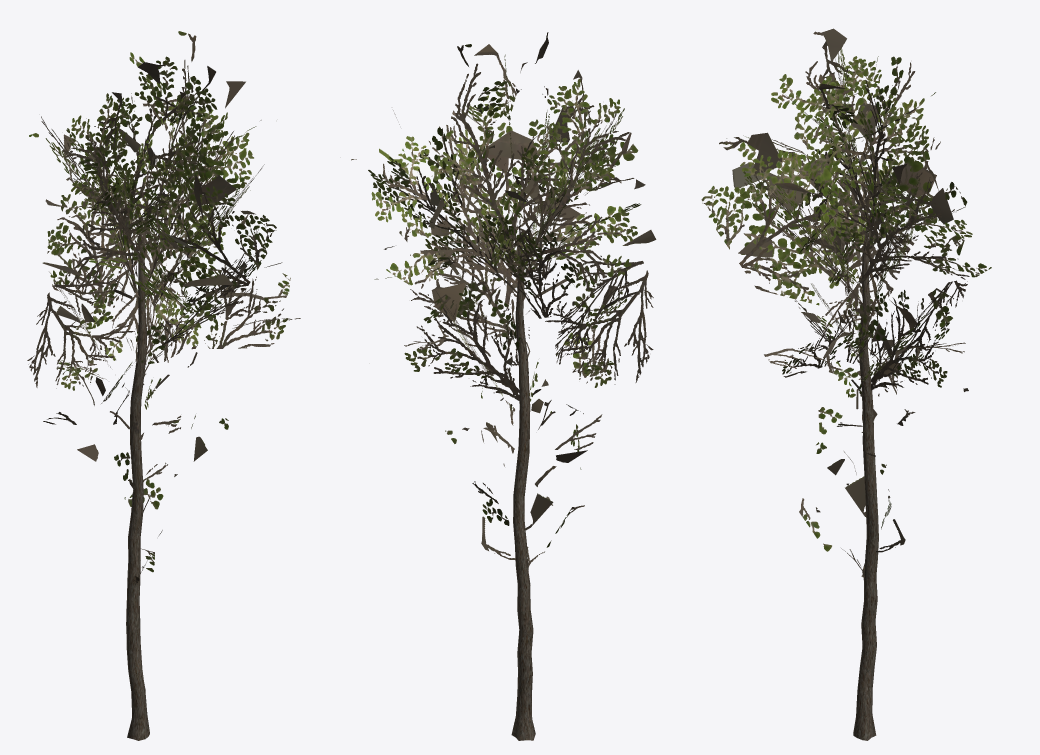
Rendered from SM_BlackAlder_Forest_08_PP_LOD4.gltf.
The picture shows the model from 3 angles, left to right: view 1: azimuth 30°, elevation 25°; view 2: azimuth 150°, elevation 25°; view 3: azimuth 270°, elevation 25°; orthographic projection. The views are drawn at different scales.
Parts seen in each view (by area): view 1: SM_BlackAlder_Forest_08_PP; view 2: SM_BlackAlder_Forest_08_PP; view 3: SM_BlackAlder_Forest_08_PP.
Boxes of the visible parts, bbox=[...] form: SM_BlackAlder_Forest_08_PP: bbox=[27, 31, 300, 740]; SM_BlackAlder_Forest_08_PP: bbox=[351, 32, 656, 740]; SM_BlackAlder_Forest_08_PP: bbox=[701, 28, 991, 740].
Size of the model in its own units: 3.24 by 7.51 by 3.05.
3 materials, 3 textured.
